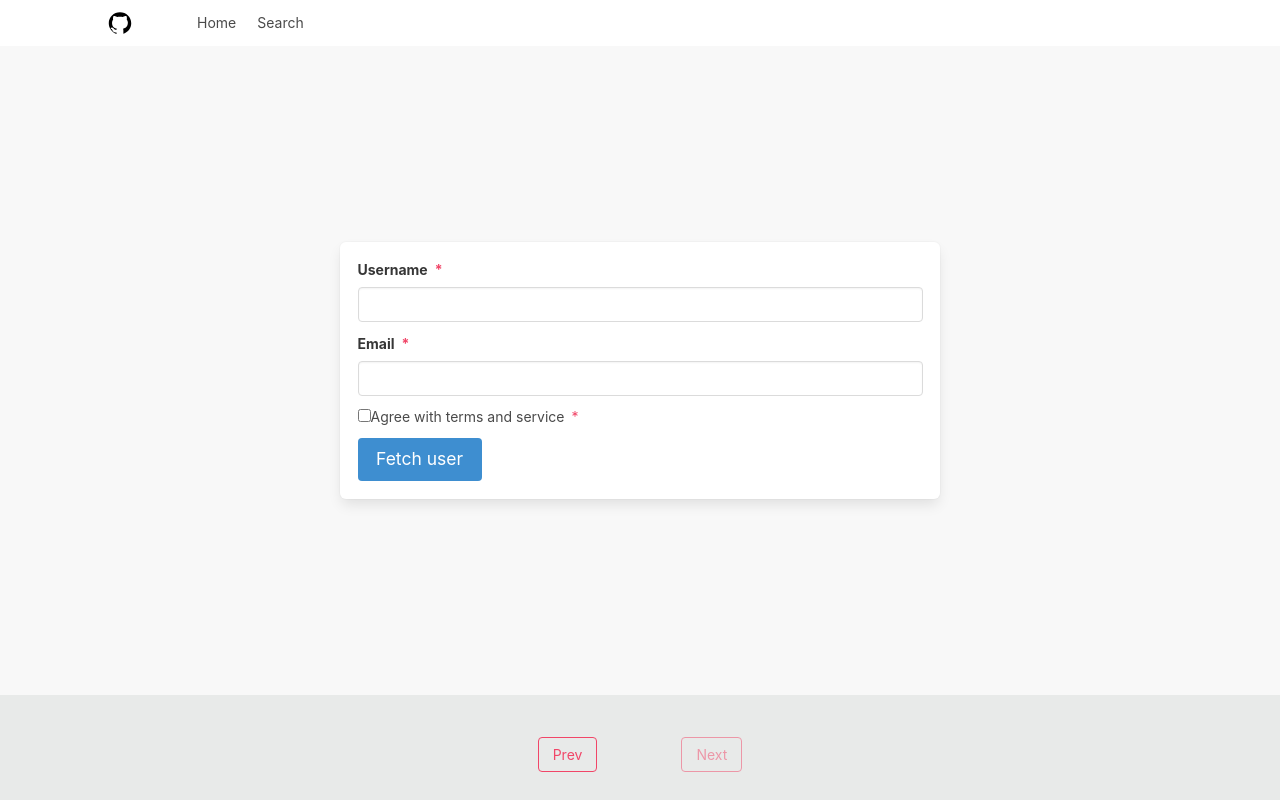
Test: @Search Page Layout › Should Form Be Valid and next button should be abled
Type "jaco@alice.it" into the field below "Email".
click(641, 379); type("jaco@alice.it")  # box [358,361,923,396]
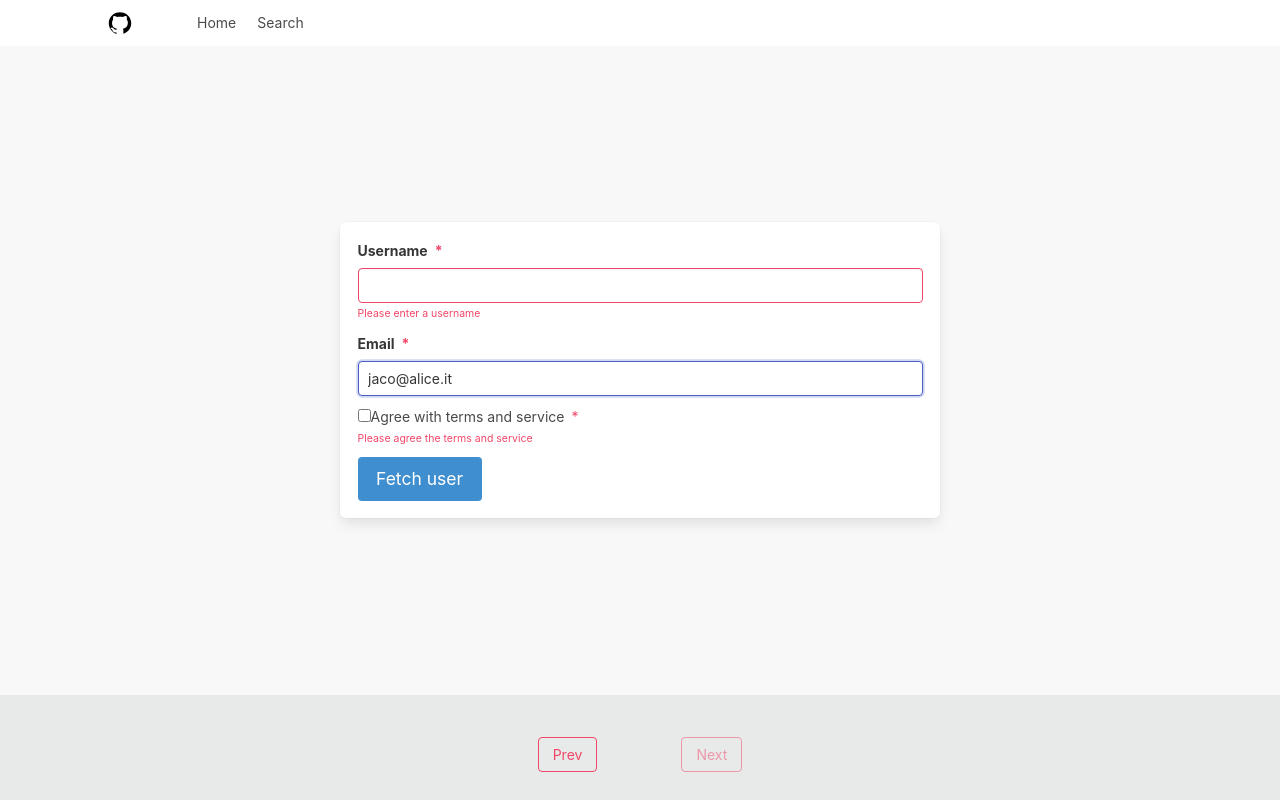
Type "JacoMig" into the 1st field.
click(641, 286); type("JacoMig")  # box [358,268,923,303]
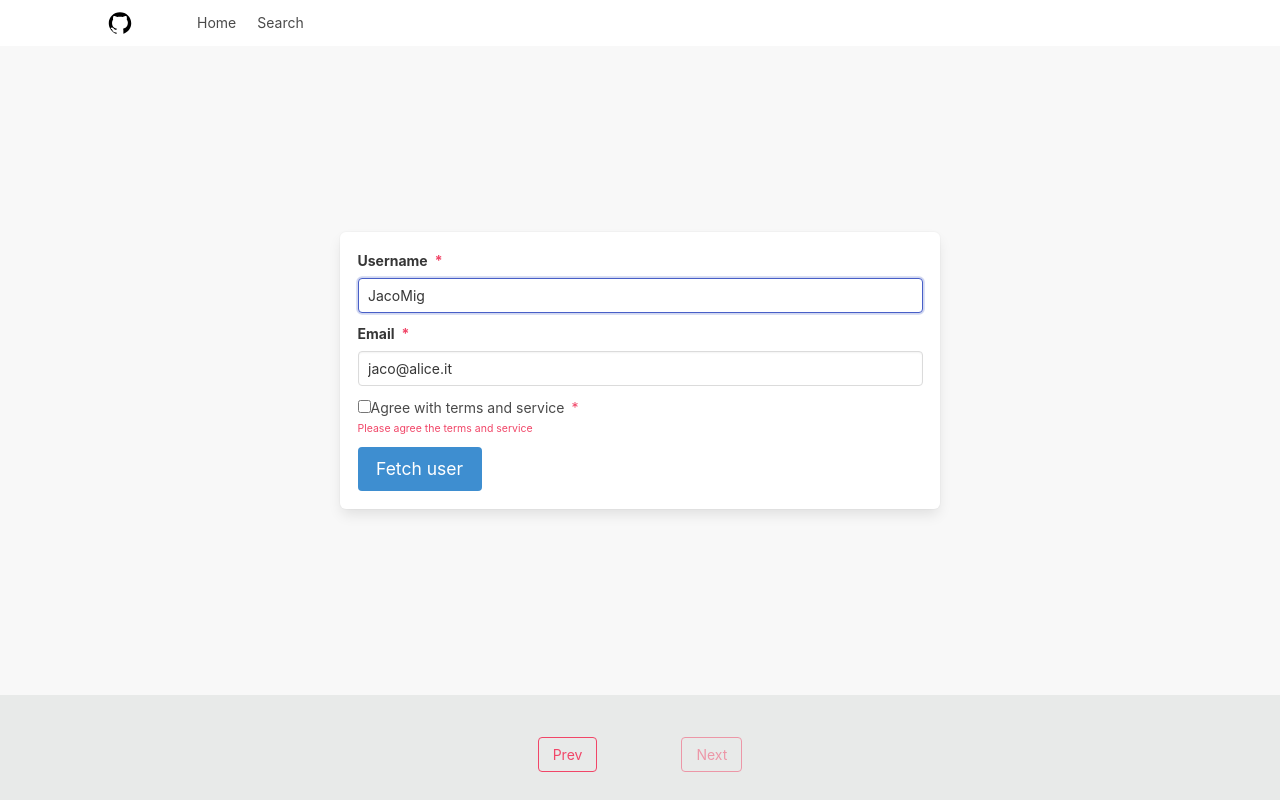
Click the checkbox labelled "Agree with terms and service".
click(365, 407)  # box [358,400,371,413]
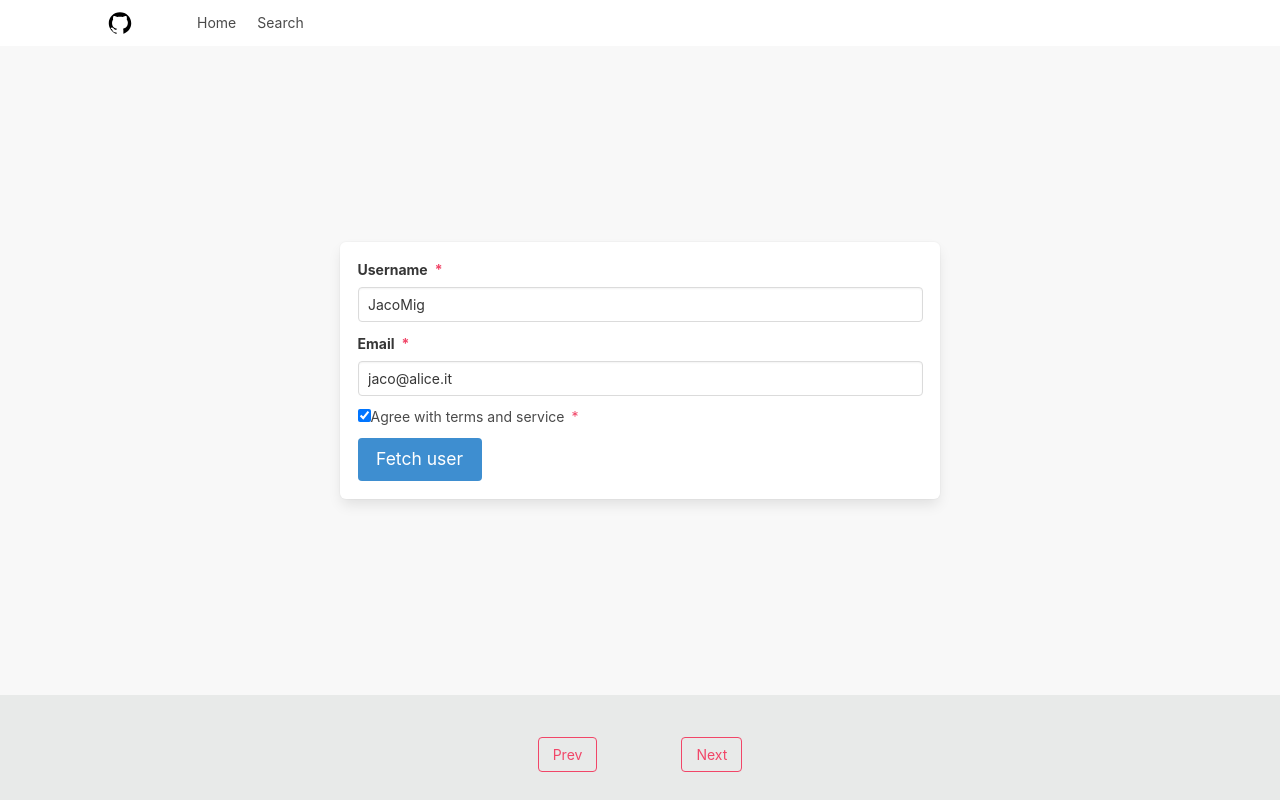
Expected: the element with class "next" is enabled
Expected: the text with class "help" is gone
